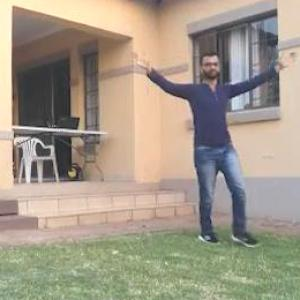takeoff: (124, 57, 290, 244)
